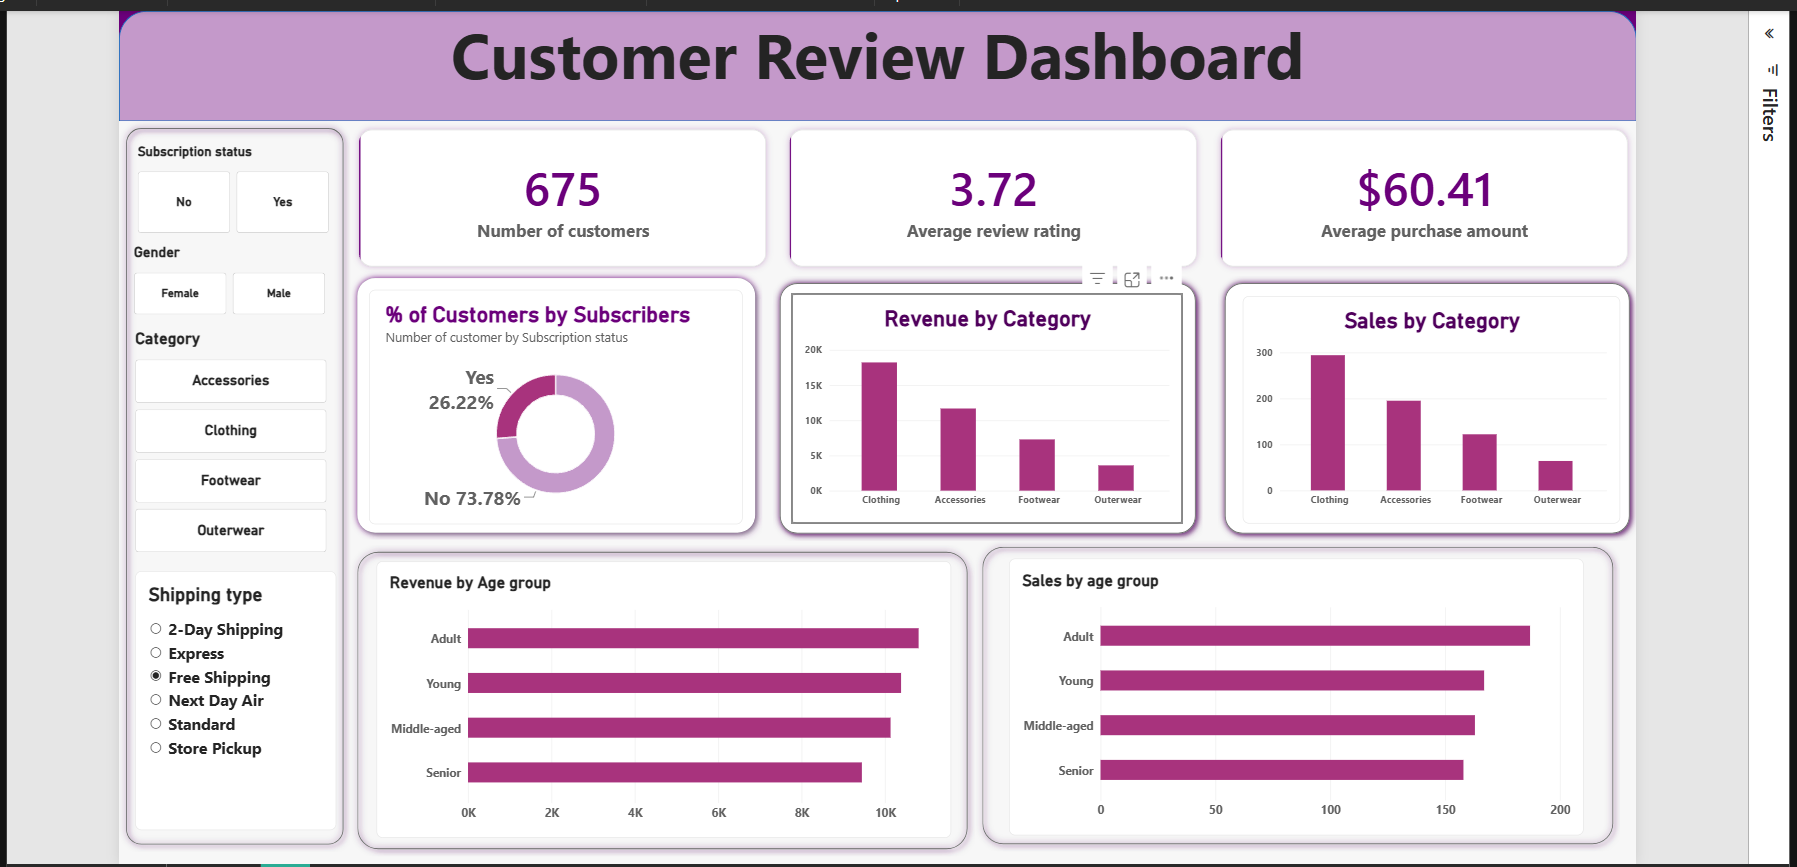

What the dashboard file says about the page in this screenshot:
{"tool":"powerbi","page":{"name":"Page 1","canvas":[1920,1080],"ordinal":0},"visuals":[{"type":"cardVisual","fields":{"Data":["customer_behavior customer.number of customers","customer_behavior customer.average review rating","customer_behavior customer.average purchase amount"]},"box":[293,139.5,1627.3,195.3],"z":0},{"type":"shape","box":[0,0,1920.4,139.5],"z":1000},{"type":"textbox","box":[0,0,1920.2,117],"z":2000},{"type":"shape","box":[293,329.7,521.5,340.1],"z":3000},{"type":"donutChart","title":"% of Customers by Subscribers","fields":{"Category":["customer_behavior customer.subscription_status"],"Y":["CountNonNull(customer_behavior customer.customer_id)"]},"box":[315.7,352.3,472.7,296.5],"z":4000},{"type":"shape","box":[826.7,334.9,544.2,334.9],"z":5000},{"type":"shape","box":[1390.1,334.9,530.2,334.9],"z":6000},{"type":"clusteredColumnChart","title":"Revenue by Category","fields":{"Category":["customer_behavior customer.category"],"Y":["Sum(customer_behavior customer.purchase_amount)"]},"box":[851.2,357.6,495.4,291.3],"z":7000},{"type":"clusteredColumnChart","title":"Sales by Category","fields":{"Category":["customer_behavior customer.category"],"Y":["CountNonNull(customer_behavior customer.customer_id)"]},"box":[1421.5,361,477.9,287.8],"z":8000},{"type":"shape","box":[0,139.5,293,924.4],"z":9000},{"type":"advancedSlicerVisual","fields":{"Values":["customer_behavior customer.subscription_status"]},"box":[24.4,167.4,242.4,113.4],"z":10000},{"type":"advancedSlicerVisual","fields":{"Values":["customer_behavior customer.gender"]},"box":[19.2,294.8,242.4,90.7],"z":11000},{"type":"advancedSlicerVisual","fields":{"Values":["customer_behavior customer.category"]},"box":[20.9,401.2,242.4,286],"z":12000},{"type":"listSlicer","fields":{"Values":["customer_behavior customer.shipping_type"]},"box":[20.9,708.1,254.7,327.9],"z":12001},{"type":"clusteredBarChart","fields":{"Category":["customer_behavior customer.age_group"],"Y":["Sum(customer_behavior customer.purchase_amount)"]},"box":[326.2,695.9,727.3,350.6],"z":12002},{"type":"shape","box":[293,675,790.1,394.2],"z":12003},{"type":"shape","box":[1083.1,669.8,816.3,394.2],"z":12004},{"type":"clusteredBarChart","title":"Sales by age group","fields":{"Category":["customer_behavior customer.age_group"],"Y":["CountNonNull(customer_behavior customer.customer_id)"]},"box":[1126.7,692.4,727.3,350.6],"z":12005}]}

Visuals, with their boxes on the page's 1920x1080 design canvas (x1, y1, x2, y2). These are canvas units, not pixel positions in the 1797x867 screenshot, which may show the page scaled, cropped or inside an application window:
cardVisual - customer_behavior customer.number of customers x customer_behavior customer.average review rating: <region>293, 140, 1920, 335</region>
shape: <region>0, 0, 1920, 140</region>
textbox: <region>0, 0, 1920, 117</region>
shape: <region>293, 330, 814, 670</region>
"% of Customers by Subscribers" donutChart: <region>316, 352, 788, 649</region>
shape: <region>827, 335, 1371, 670</region>
shape: <region>1390, 335, 1920, 670</region>
"Revenue by Category" clusteredColumnChart: <region>851, 358, 1347, 649</region>
"Sales by Category" clusteredColumnChart: <region>1422, 361, 1899, 649</region>
shape: <region>0, 140, 293, 1064</region>
advancedSlicerVisual - customer_behavior customer.subscription_status: <region>24, 167, 267, 281</region>
advancedSlicerVisual - customer_behavior customer.gender: <region>19, 295, 262, 386</region>
advancedSlicerVisual - customer_behavior customer.category: <region>21, 401, 263, 687</region>
listSlicer - customer_behavior customer.shipping_type: <region>21, 708, 276, 1036</region>
clusteredBarChart - customer_behavior customer.age_group x Sum(customer_behavior customer.purchase_amount): <region>326, 696, 1054, 1046</region>
shape: <region>293, 675, 1083, 1069</region>
shape: <region>1083, 670, 1899, 1064</region>
"Sales by age group" clusteredBarChart: <region>1127, 692, 1854, 1043</region>
